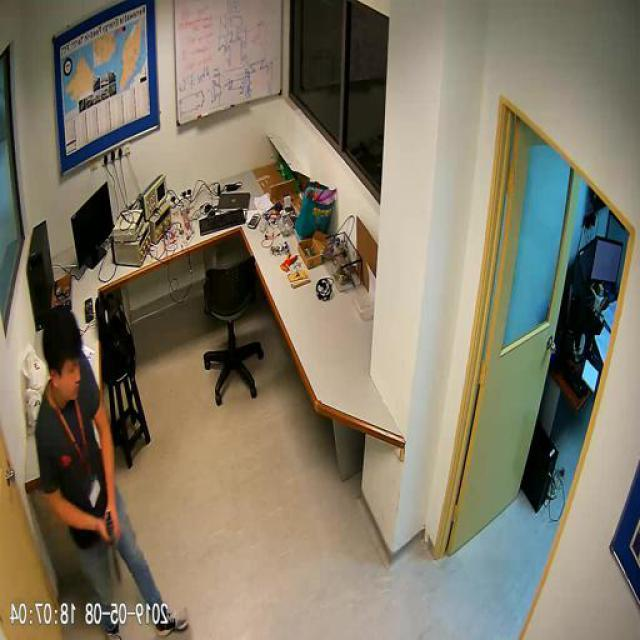Gun: (105, 505, 124, 579)
